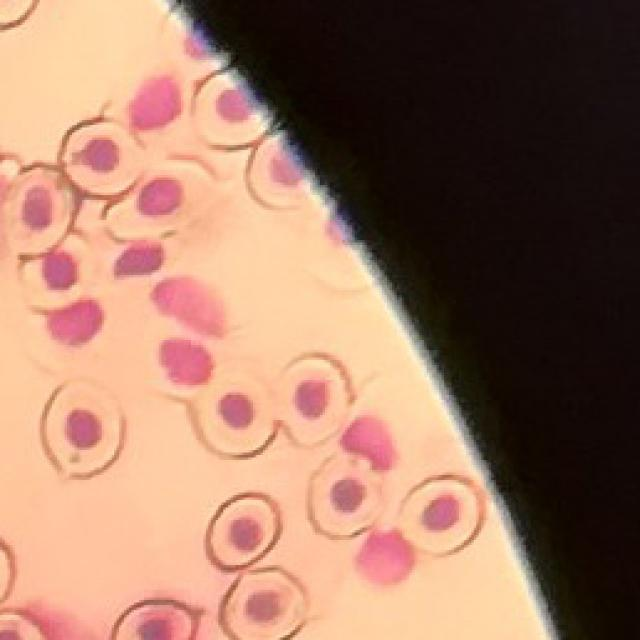RBC: (101, 154, 223, 243), (187, 360, 279, 462), (40, 380, 125, 477), (278, 352, 356, 449), (17, 230, 103, 314), (1, 163, 77, 258), (400, 476, 482, 554), (61, 121, 145, 196), (220, 567, 306, 639), (309, 454, 382, 538), (205, 493, 280, 570), (194, 72, 268, 149), (246, 136, 304, 208), (111, 598, 199, 640), (0, 607, 59, 640)
WBC: (151, 277, 224, 336), (356, 529, 415, 583), (341, 416, 396, 471), (130, 76, 181, 130), (46, 300, 102, 345), (160, 339, 212, 384), (115, 242, 164, 276)
